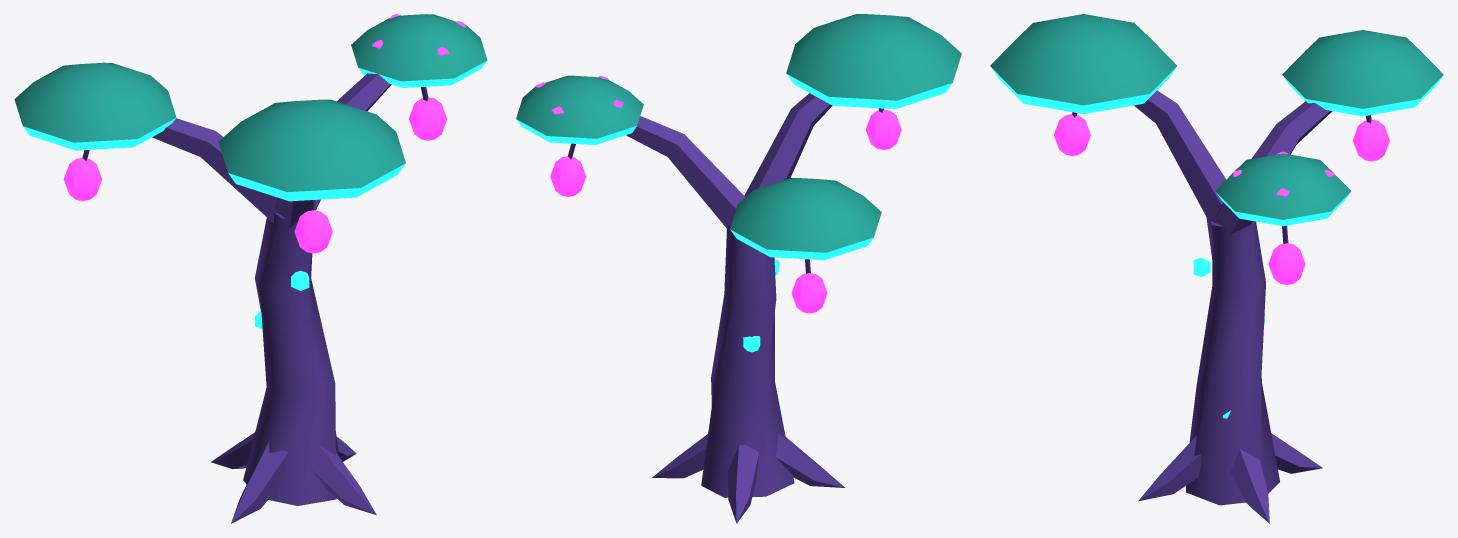
Rendered from alien_tree.glb.
3 renders of one model, left to right at view 1: azimuth 30°, elevation 25°; view 2: azimuth 150°, elevation 25°; view 3: azimuth 270°, elevation 25°, orthographic. The views are drawn at different scales.
Parts seen in each view (by area): view 1: alien_tree; view 2: alien_tree; view 3: alien_tree.
Boxes of the visible parts, x1,y1,x2,y2 form: alien_tree: (14, 14, 487, 523); alien_tree: (516, 14, 961, 523); alien_tree: (990, 14, 1443, 523).
Size of the model in its own units: 2.99 by 3.09 by 2.93.
